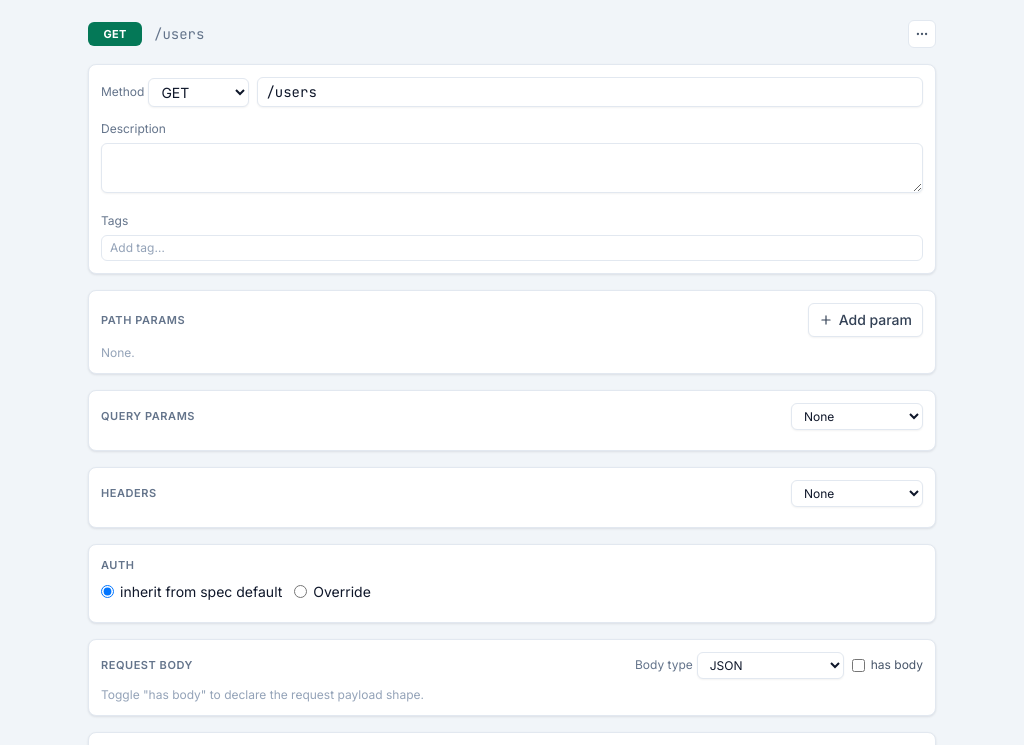
it: type "users" then Enter → chip appears; endpoint tags equals ["users"]
This screenshot has width=1024, height=745.
In the field labelled "Tags": (512, 248) [110,240,914,256], type "users"
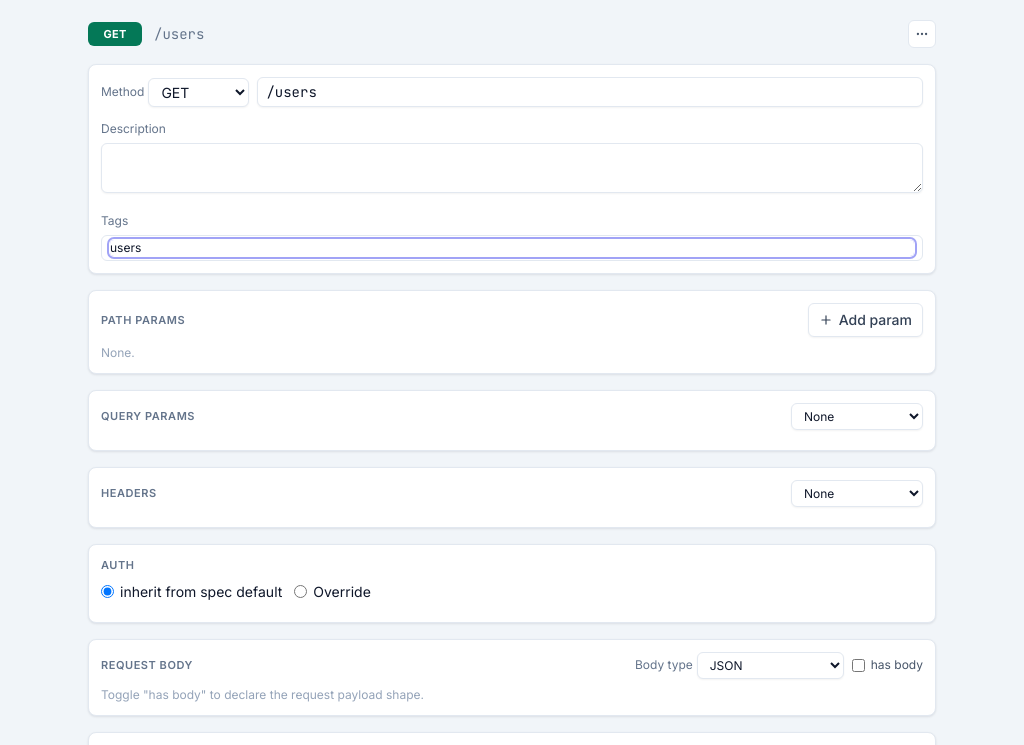
Press Enter
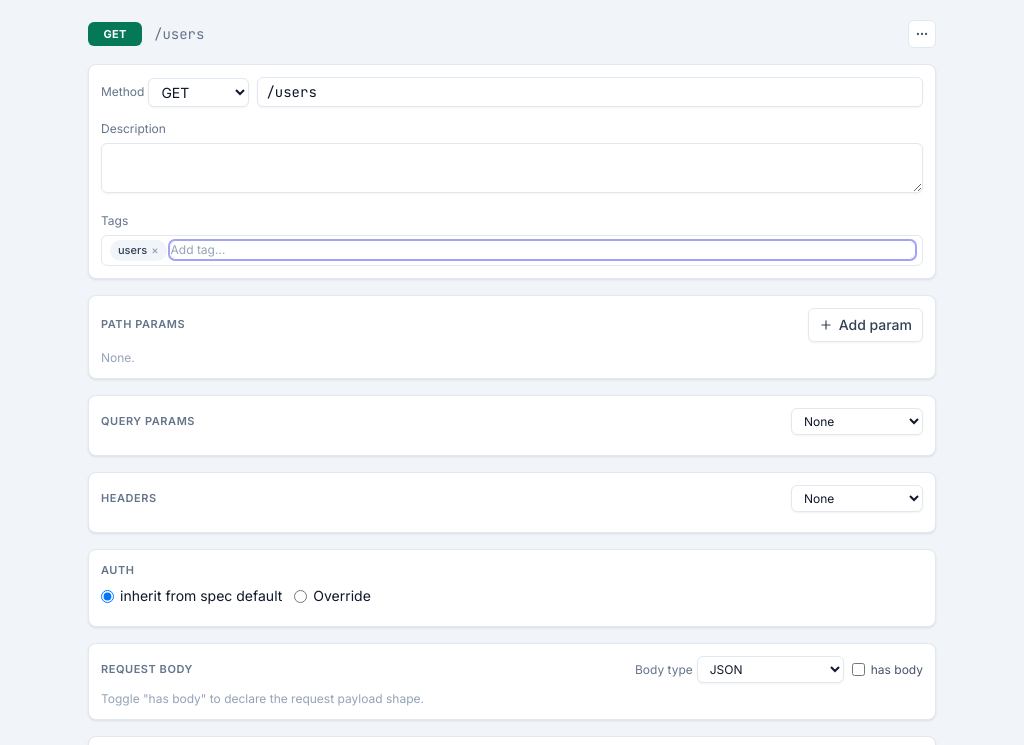
Check: the text "users" is shown, box [118,243,147,257]
